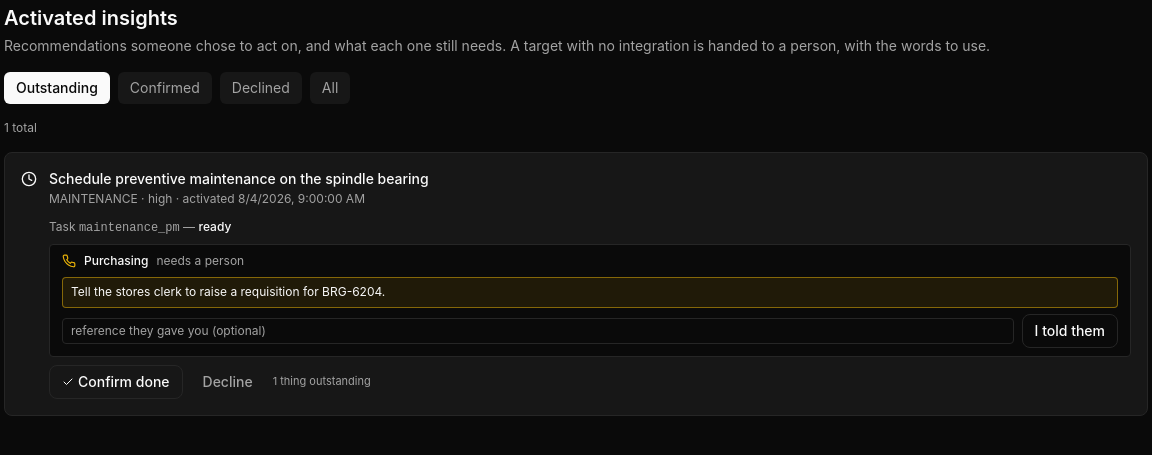
it: acting on one › reports a failed acknowledgement instead of leaving the row looking cleared
Click the button "I told them" at (1070, 330), box left=1022, top=314, right=1118, bottom=348
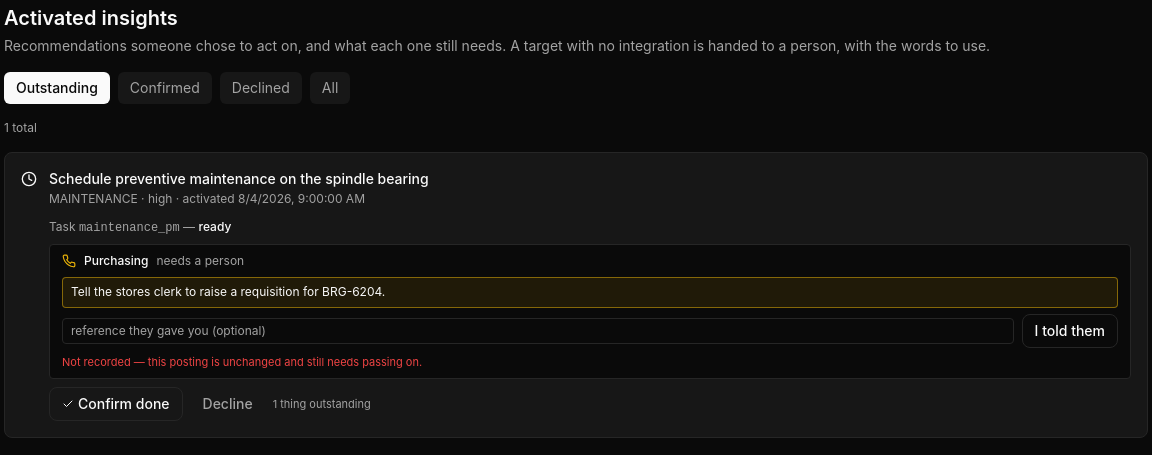
Result: the text "Not recorded — this posting is unchanged and still needs passing on." is shown at left=62, top=354, right=422, bottom=368
